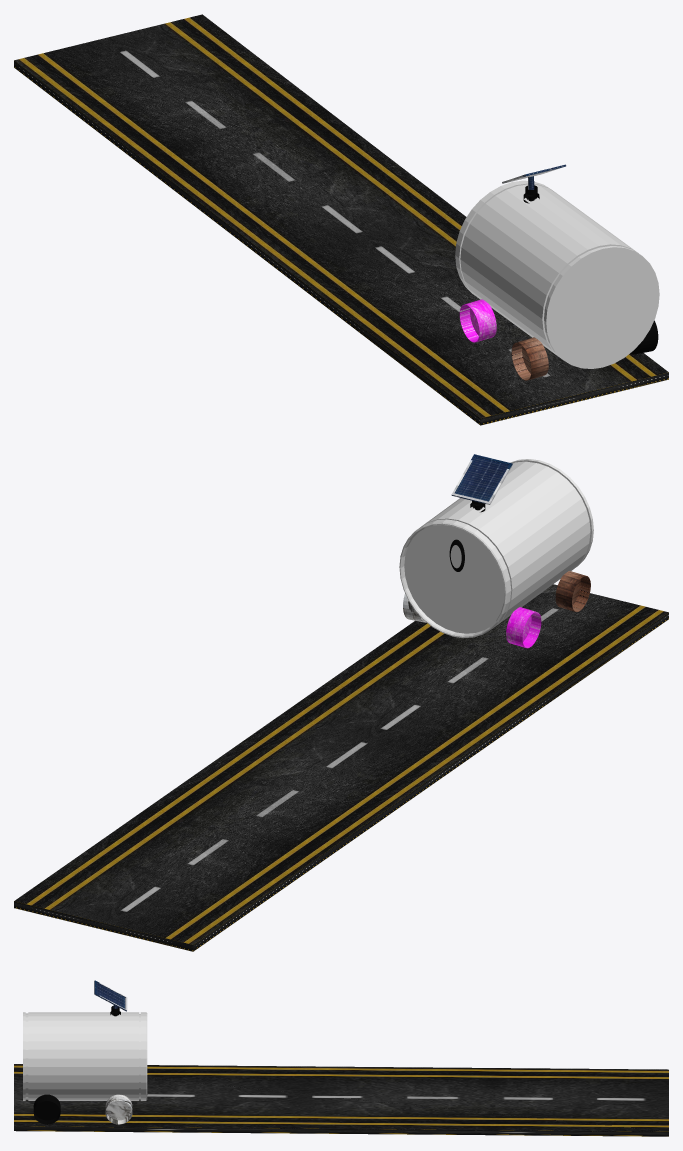
File: therunner.glb
3 views of the same model, one above another, from view 1: azimuth 30°, elevation 25°; view 2: azimuth 150°, elevation 25°; view 3: azimuth 270°, elevation 25° (orthographic). The views are drawn at different scales.
Parts seen in each view (by area): view 1: street, car; view 2: street, car; view 3: street, car.
Part boxes in pixels (left/top/right/bottom): street: left=14, top=14, right=668, bottom=425; car: left=455, top=164, right=659, bottom=380; street: left=14, top=584, right=668, bottom=951; car: left=399, top=454, right=593, bottom=648; street: left=14, top=1064, right=668, bottom=1136; car: left=23, top=980, right=147, bottom=1124.
Size of the model in its own units: 10.46 by 8.86 by 42.67.
8 materials, 5 textured.
